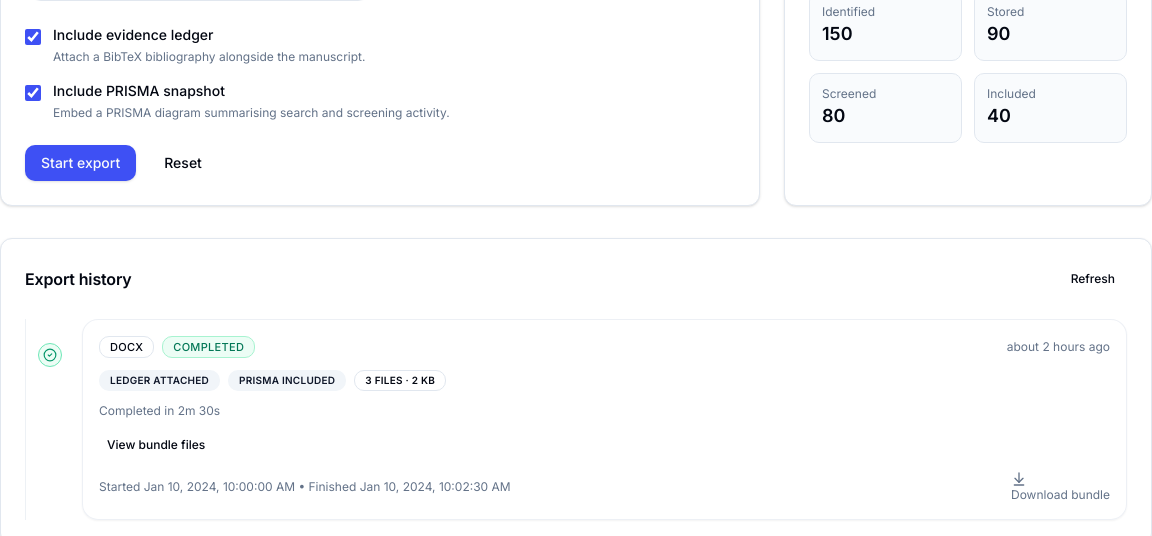
Test: ProjectExportPage history timeline › renders completed exports with bundle metadata
(page scrolled)
Expected: the list item "completed in 2m 30s" is shown, [50, 319, 1127, 520]
Expected: the text "DOCX" is shown, [99, 336, 154, 358]
Click the button "View bundle files". click: (156, 445)
box: [99, 431, 213, 459]
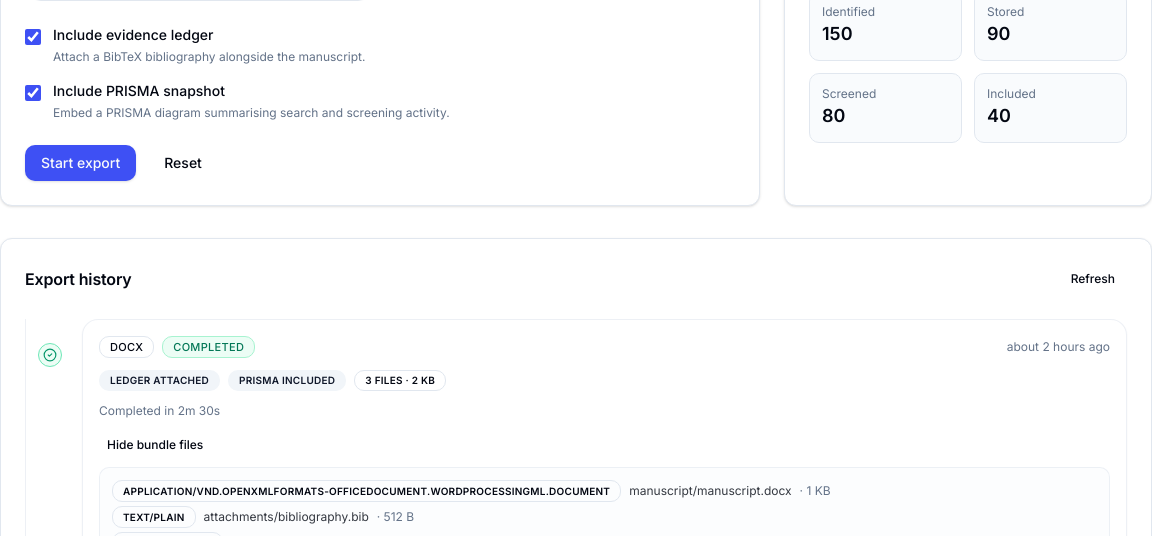
Now the text "manuscript/manuscript.docx" is shown, box [629, 483, 792, 499]
Now the text "application/vnd.openxmlformats-officedocument.wordprocessingml.document" is shown, box [112, 480, 621, 502]
Now the text "· 1 KB" is shown, box [800, 483, 831, 499]
